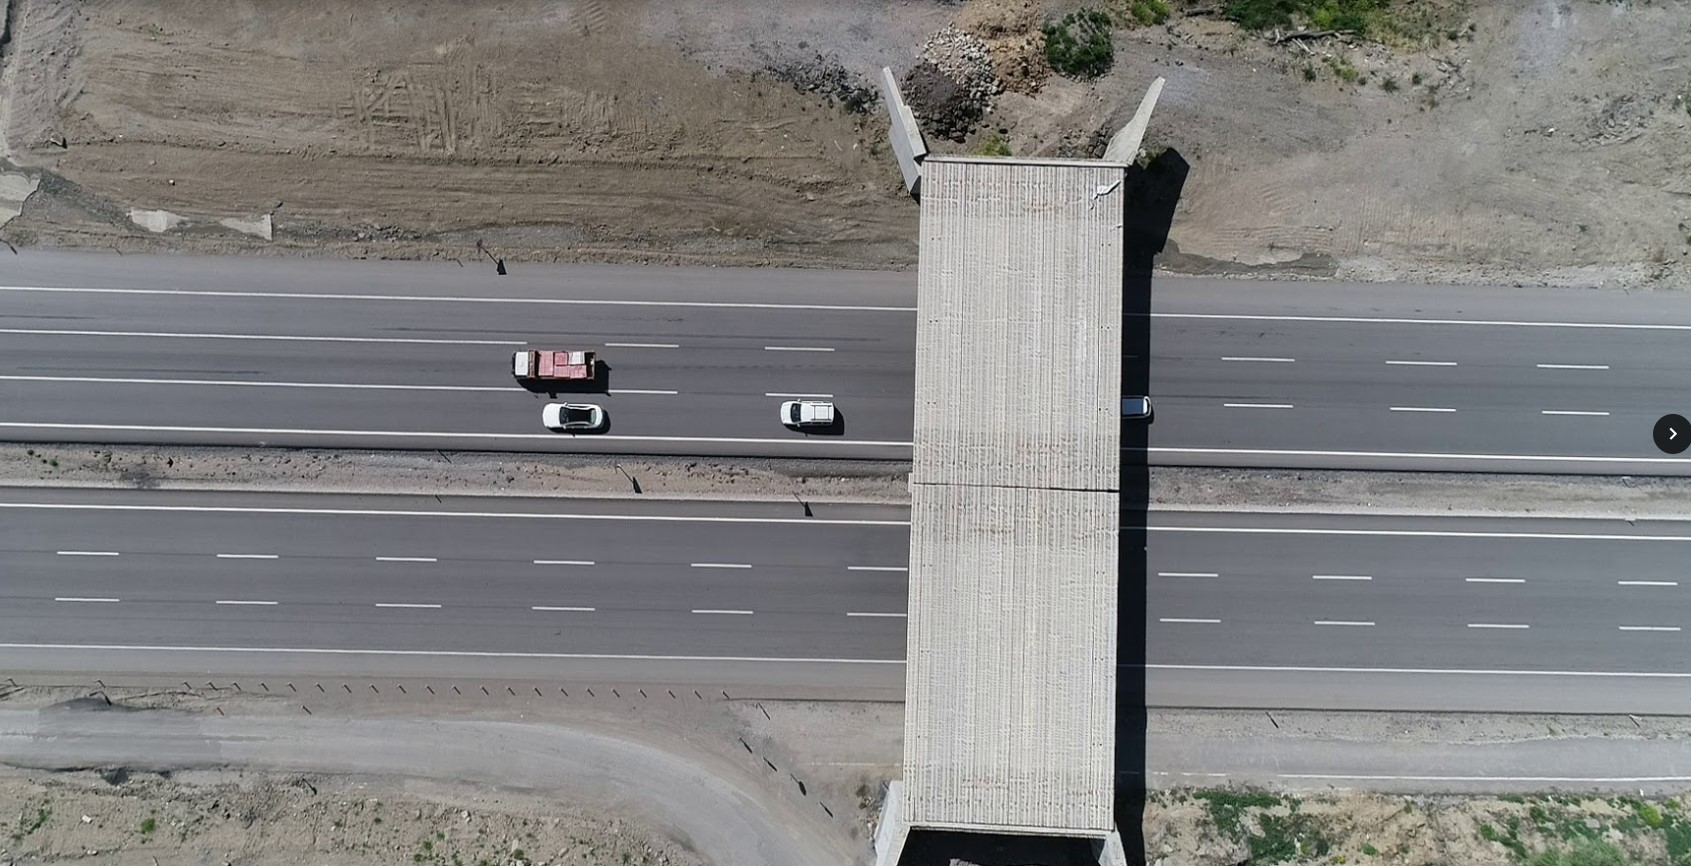araba: (776, 394, 839, 426), (538, 403, 606, 427), (1121, 393, 1159, 424)
kamyonet: (512, 350, 599, 386)
